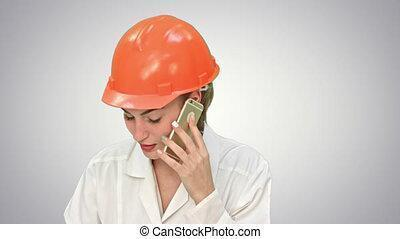helmet: (101, 14, 220, 109)
